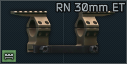Recknagel Era-Tac 30mm ring scope mount: (0, 0, 127, 64)
